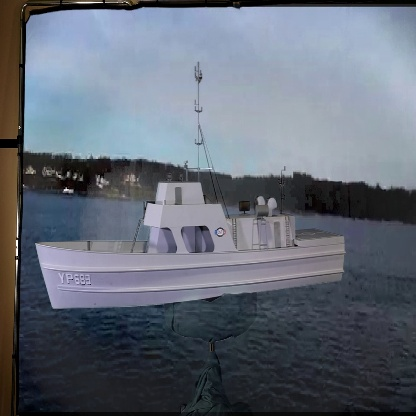YP689: (36, 62, 345, 309)
